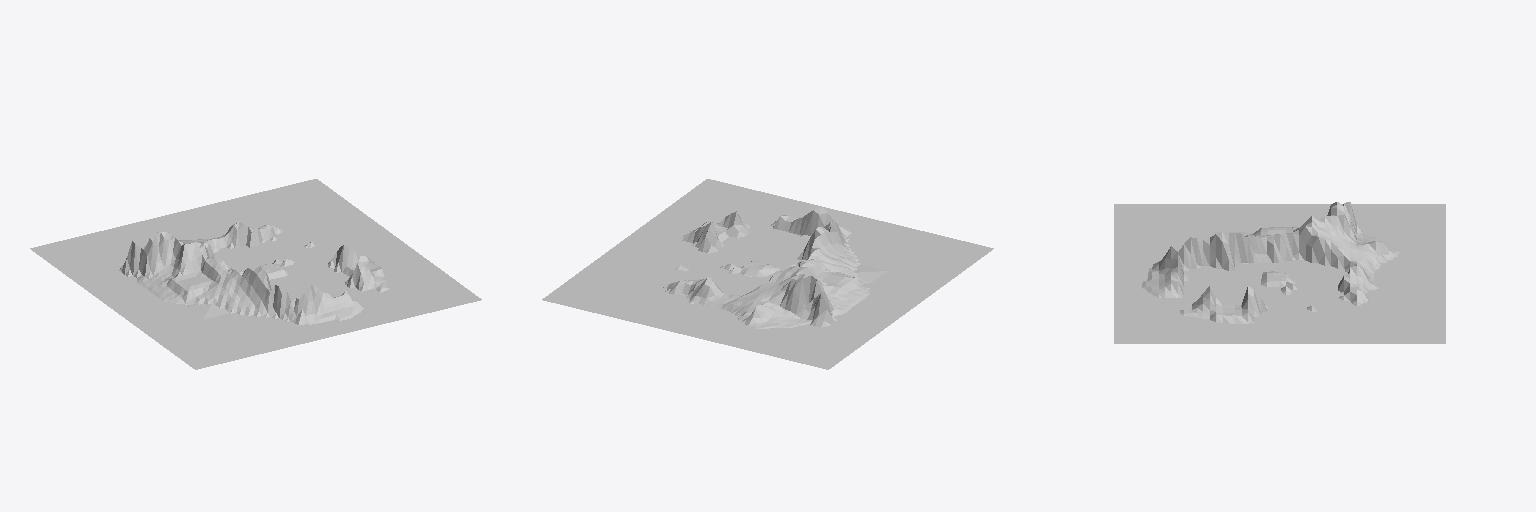
Rendered from islands_scaled2.obj.
The picture shows the model from 3 angles: view 1: azimuth 30°, elevation 25°; view 2: azimuth 150°, elevation 25°; view 3: azimuth 270°, elevation 25°; orthographic projection.
Parts seen in each view (by area): view 1: IslandField WaterMesh, TerrainMesh IslandField; view 2: IslandField WaterMesh, TerrainMesh IslandField; view 3: IslandField WaterMesh, TerrainMesh IslandField.
Part boxes in pixels (x1,y1,x2,y2): IslandField WaterMesh: (30, 179, 481, 369); TerrainMesh IslandField: (119, 221, 389, 325); IslandField WaterMesh: (542, 179, 993, 369); TerrainMesh IslandField: (663, 207, 869, 328); IslandField WaterMesh: (1114, 204, 1445, 343); TerrainMesh IslandField: (1142, 202, 1399, 323).
Size of the model in its own units: 1999 by 259 by 2001.